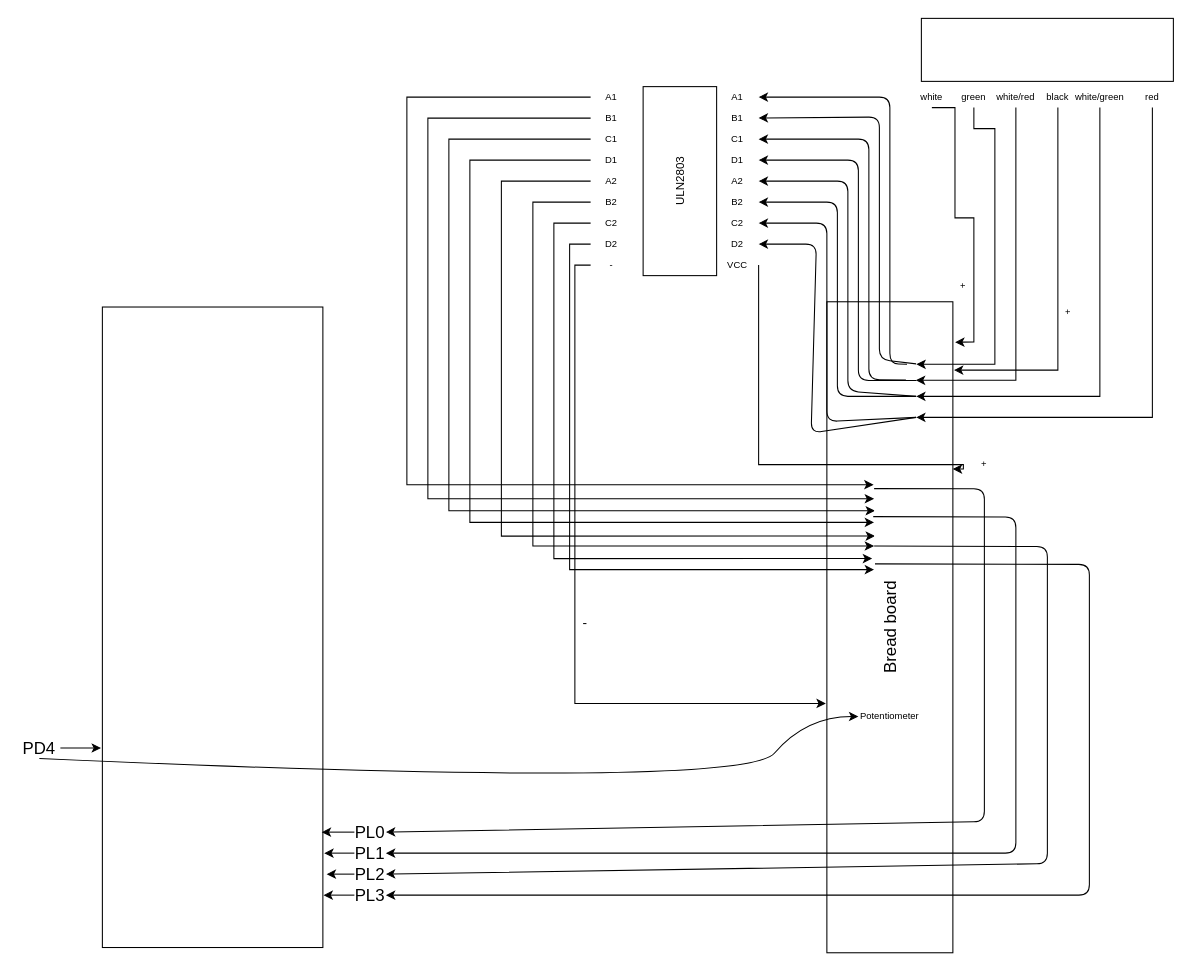
Some shapes in this 1192 by 971 pixel diagram are drawn without their labels. The shapes that lost their labels are listed below. From the top down, each one's centre as x and y in pixels, then its label:
(1046,49): Applied Motion 5017-013 hybrid stepper motor
(212,627): Tiva TM4C123G Development Board
